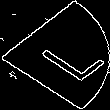L_NW: (15, 26, 95, 84)
